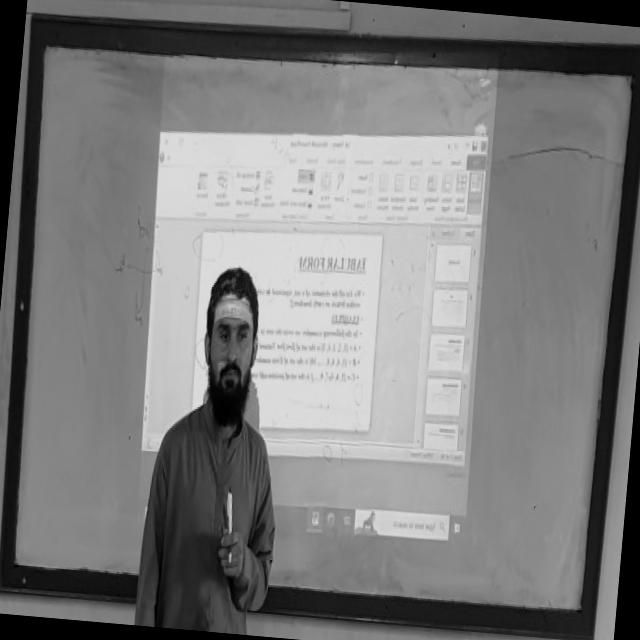Instructor: (130, 251, 288, 636)
Slide: (131, 40, 502, 550)
White-board: (1, 25, 640, 630)
